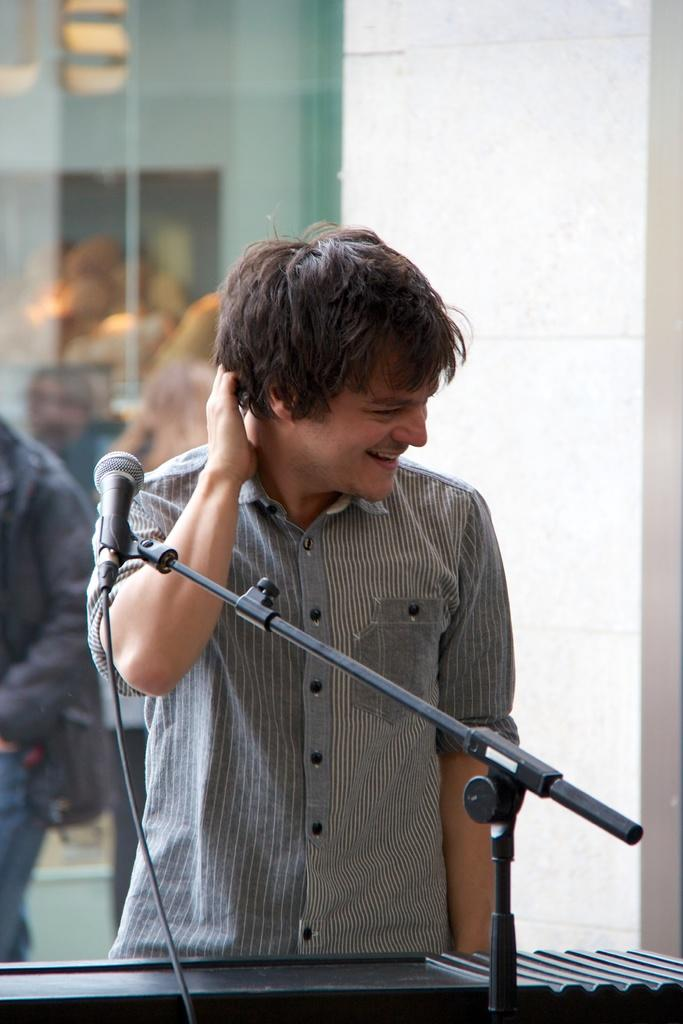no_helmet: (242, 222, 434, 432)
none: (171, 448, 471, 965)
